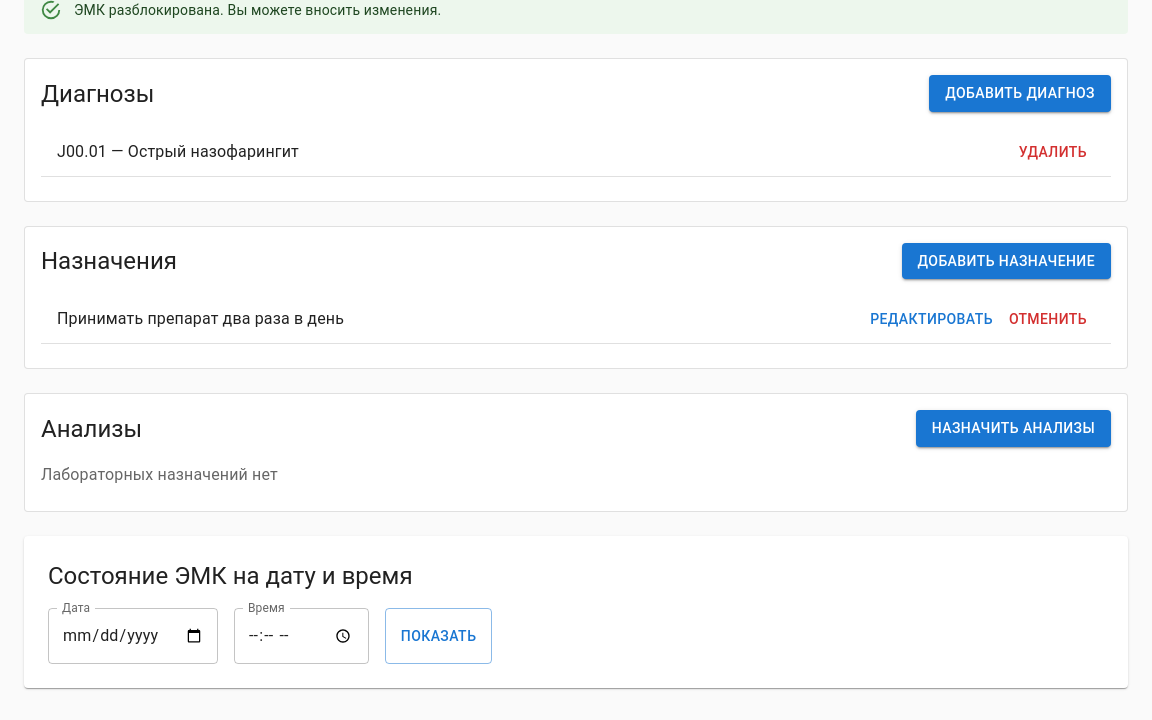
MedicalRecordPage authorization-aware UI › supports multiple selection, deselection and blocks an empty submission
(page scrolled)
Click the button "Назначить анализы": (1013,429) [916,410,1111,447]
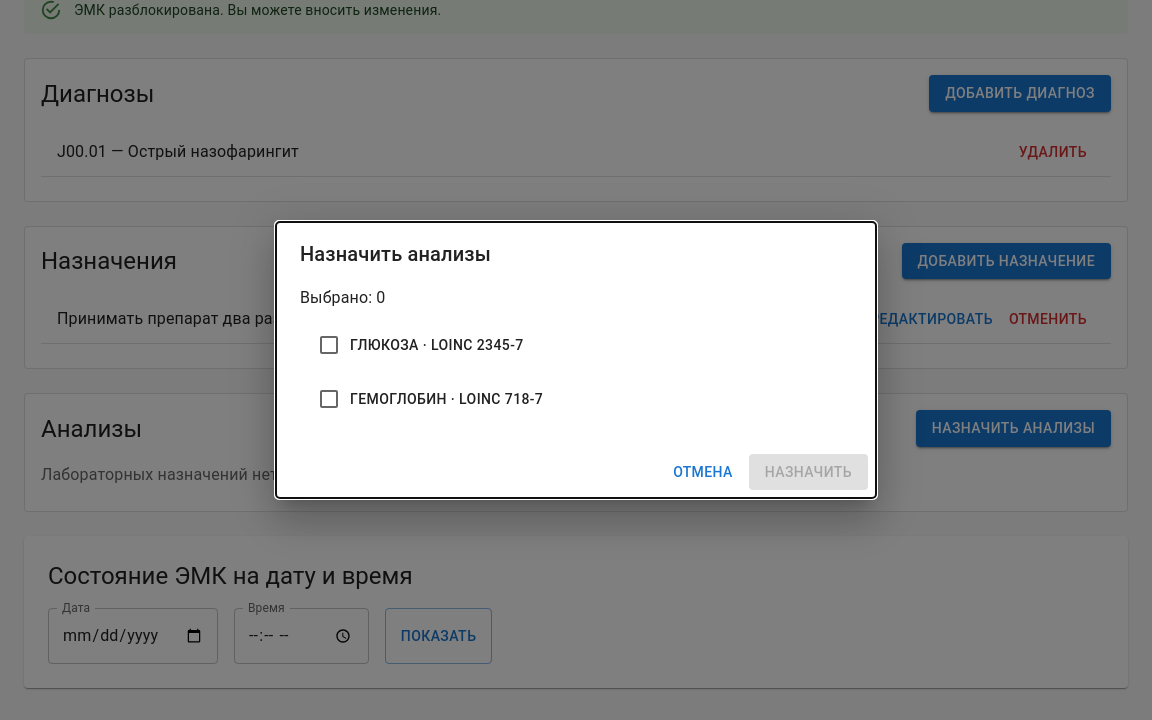
Check: the button "Назначить" is disabled, box [749,454,868,490]
Click the button "Глюкоза · LOINC 2345-7": (384,344) [300,318,852,372]
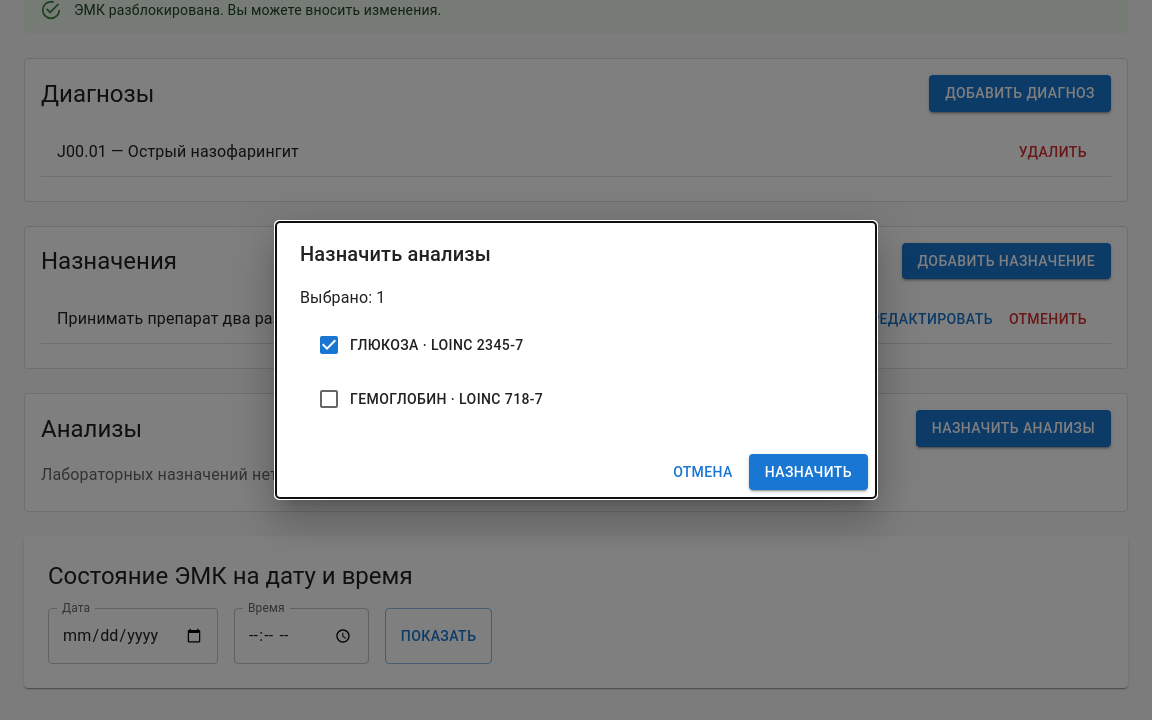
Click the button "Гемоглобин · LOINC 718-7": (398,398) [300,372,852,426]
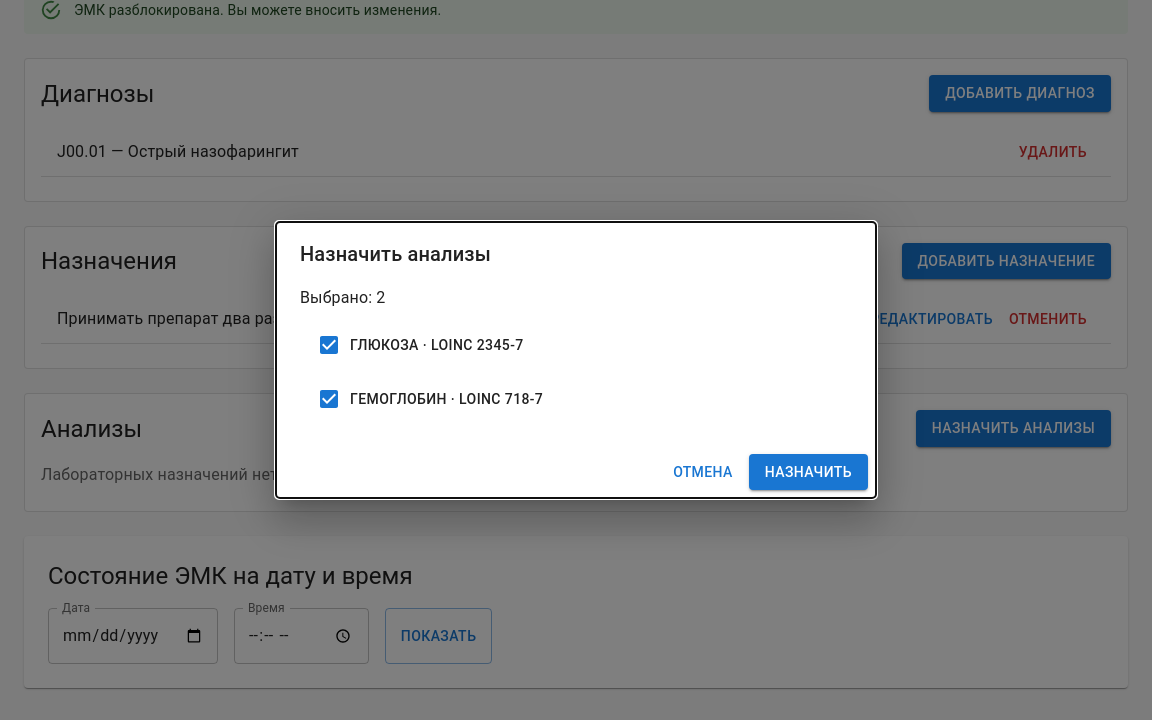
Check: the text "Выбрано: 2" is shown, box [300,288,386,307]
Click the button "Глюкоза · LOINC 2345-7": (384,344) [300,318,852,372]
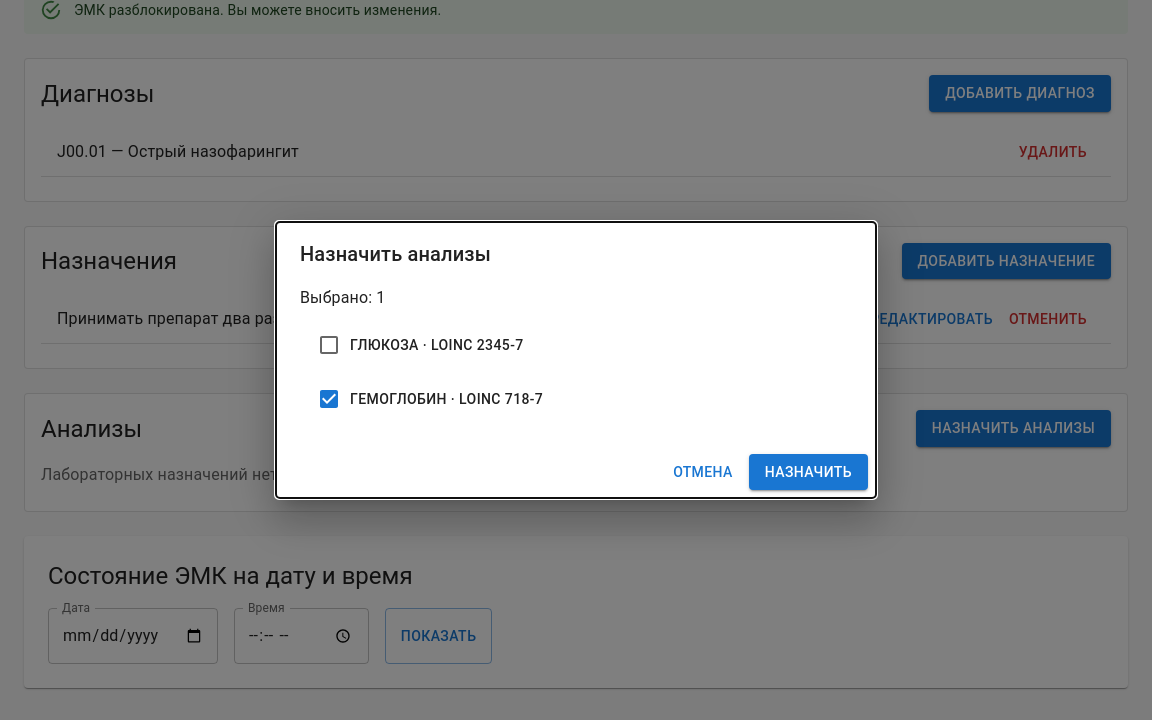
Check: the button "Назначить" is enabled, box [749,454,868,490]
Check: the text "Выбрано: 1" is shown, box [300,288,386,307]
